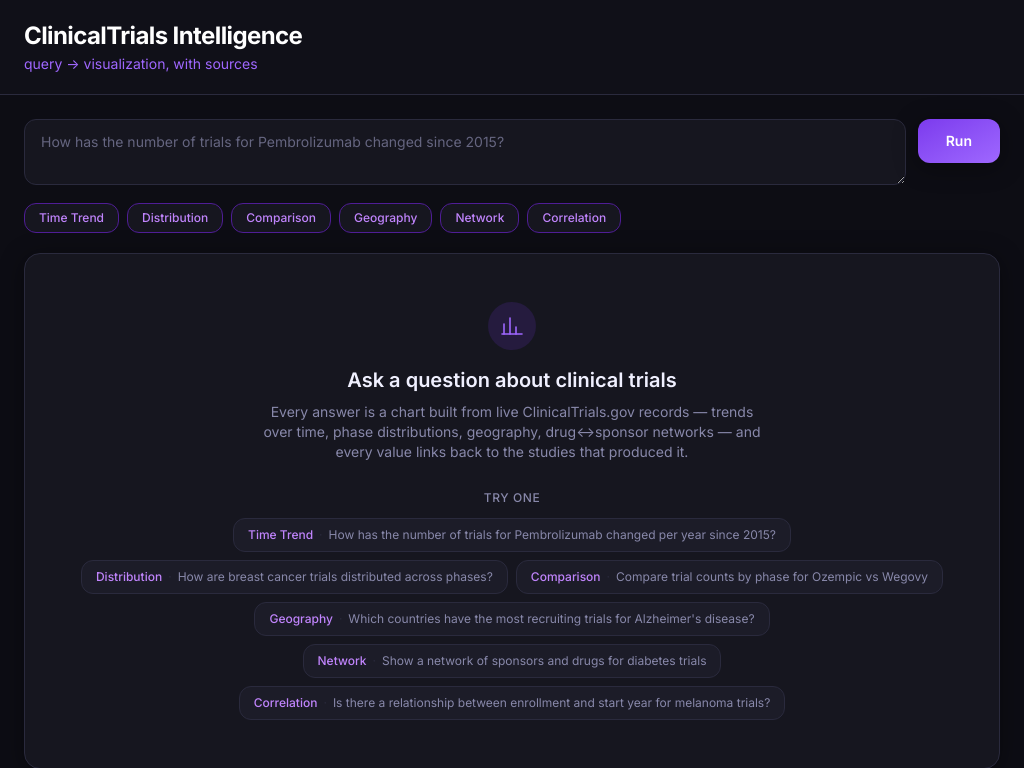
Test: empty query › clears the inline error as soon as the user types
The width and height of the screenshot is (1024, 768).
Click the button "Run" at (959, 141), box [918,119,1000,163]
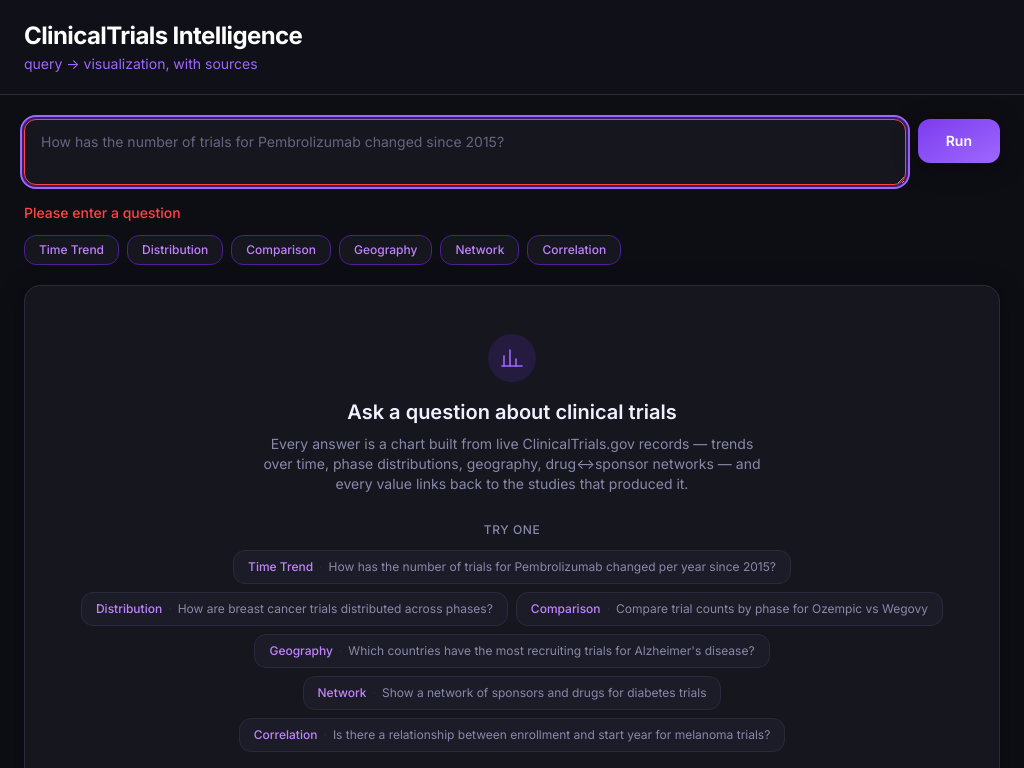
Expected: the text "Please enter a question" is shown, [24,204,181,221]
Type "melanoma" into the text box named "your question about clinical trials" at (465, 152), box [24,119,906,185]
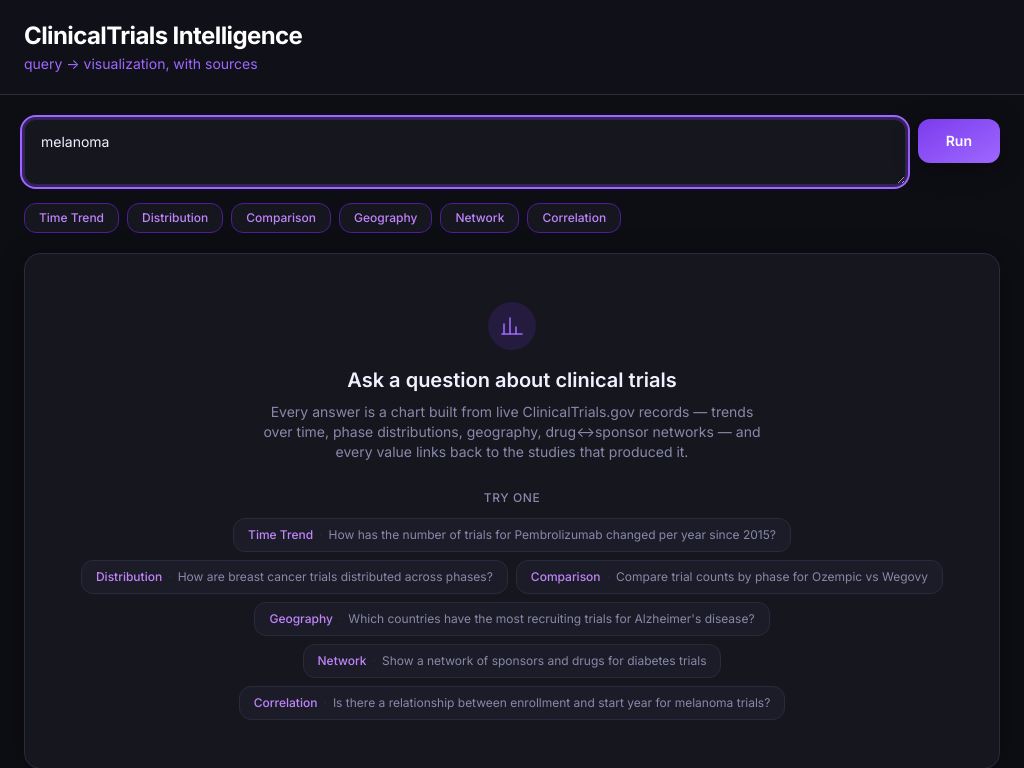
Expected: the text "Please enter a question" is gone
